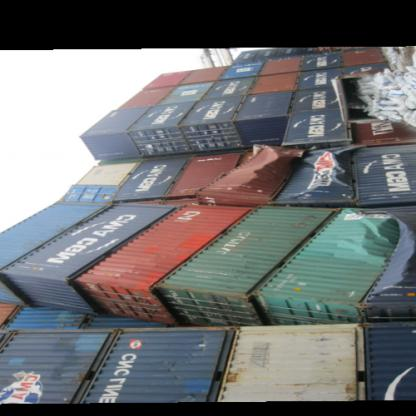Damage: (323, 210, 415, 290), (338, 61, 414, 132), (222, 142, 292, 198), (299, 142, 353, 206)
